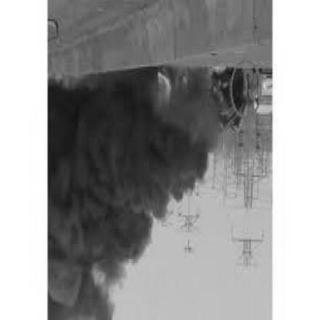Smoke: (50, 84, 219, 316)
